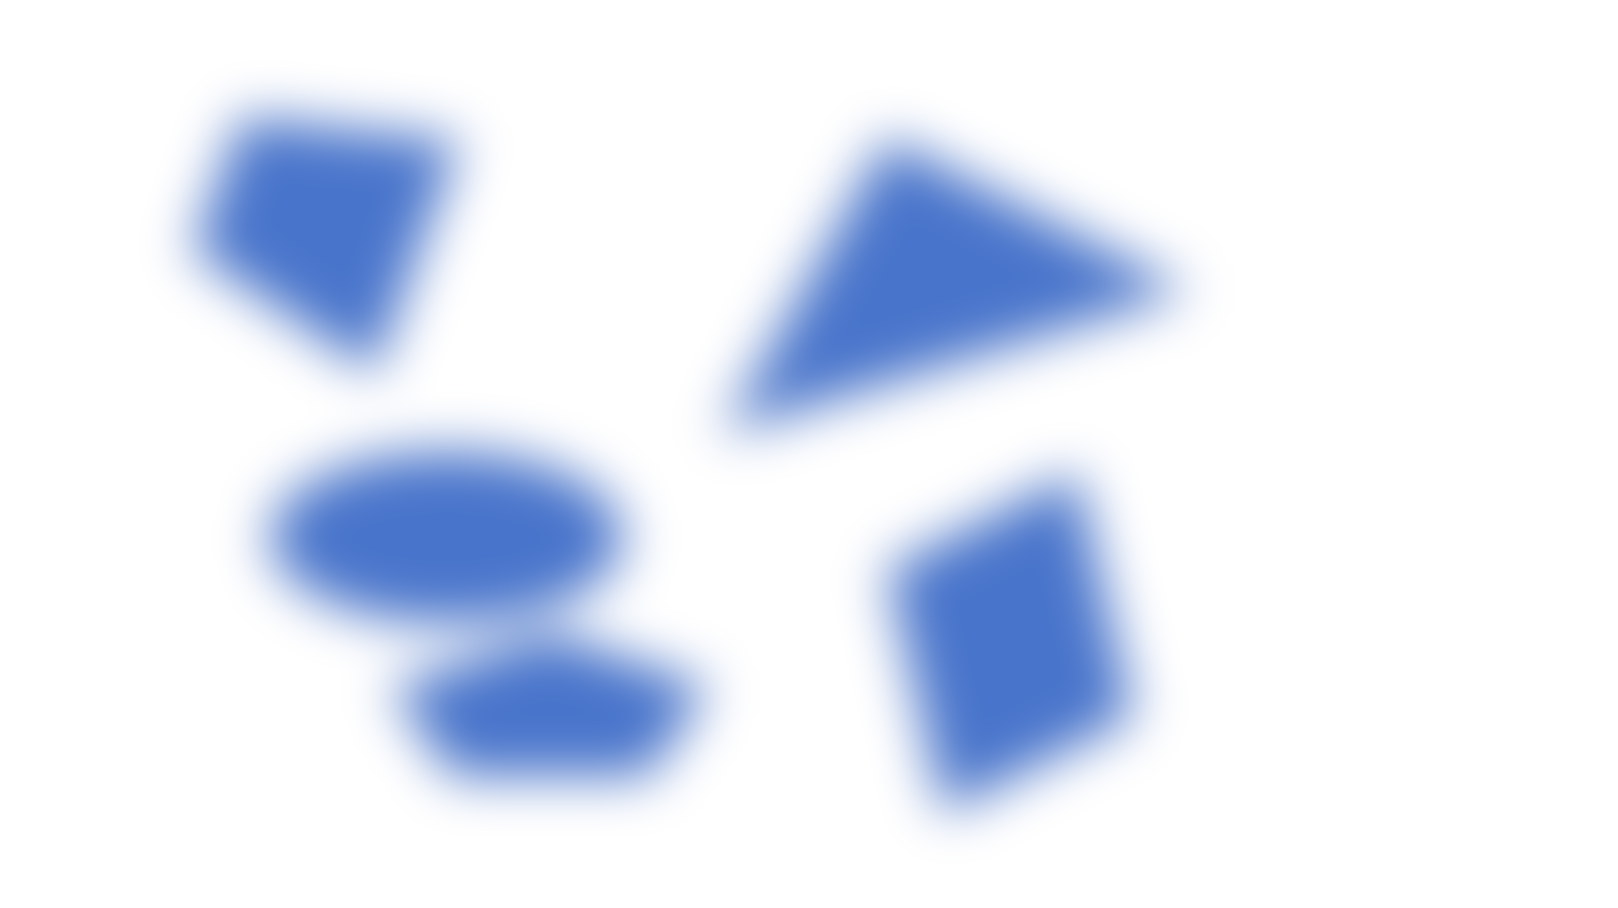circle: (257, 428, 621, 641)
parallelogram: (873, 468, 1151, 841)
pentagon: (382, 647, 708, 787)
trapezium: (189, 100, 476, 385)
triangle: (689, 121, 1217, 453)
